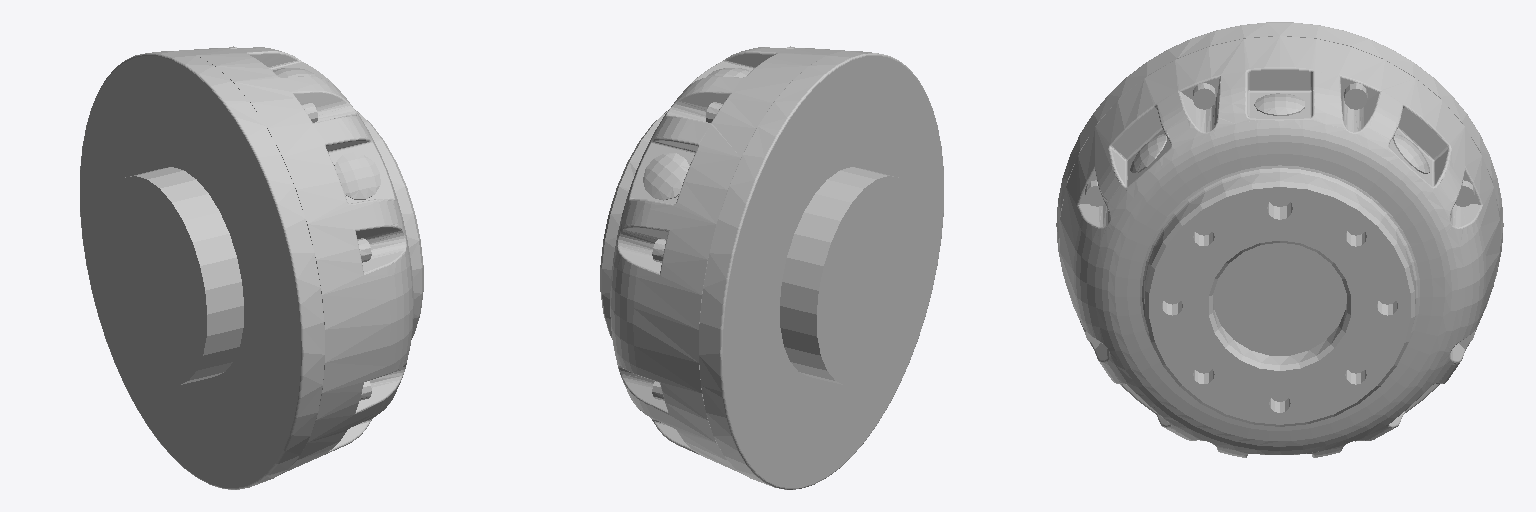
The picture shows the model from 3 angles: view 1: azimuth 30°, elevation 25°; view 2: azimuth 150°, elevation 25°; view 3: azimuth 270°, elevation 25°; orthographic projection.
Parts seen in each view (by area): view 1: link_7; view 2: link_7; view 3: link_7.
Boxes of the visible parts, <box> form: link_7: <box>80,46,423,489</box>; link_7: <box>600,46,943,489</box>; link_7: <box>1056,22,1503,457</box>.
Size of the model in its own units: 0.0549 by 0.1037 by 0.1039.